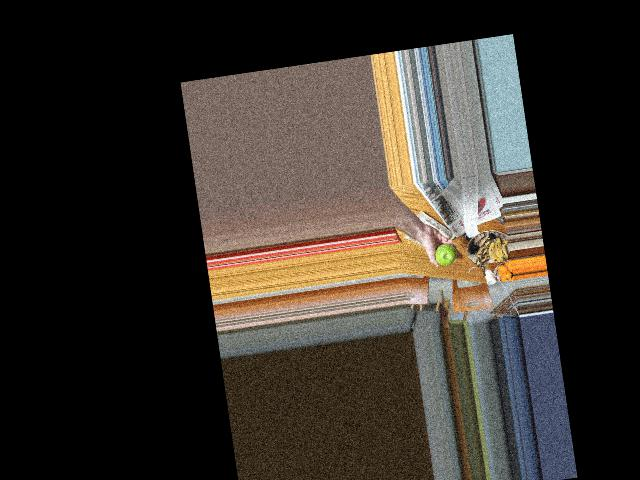apple: (434, 238, 457, 271)
